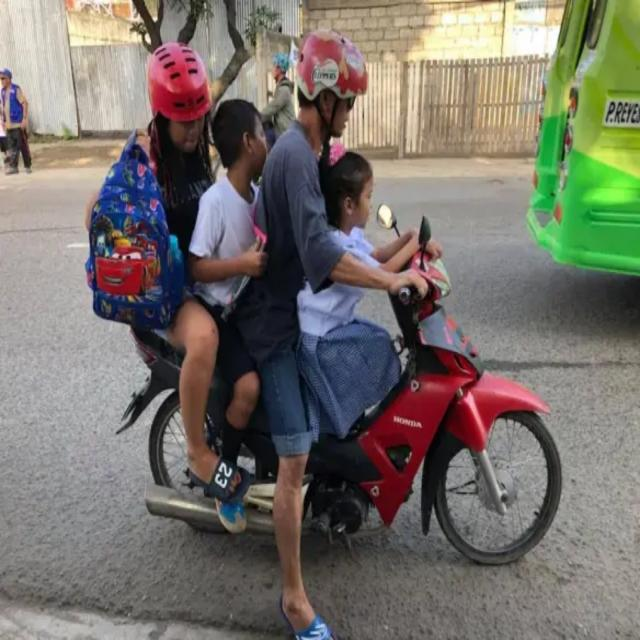helmet: (145, 41, 211, 124), (296, 29, 368, 101)
no_helmet: (316, 139, 376, 233), (211, 95, 270, 182)
